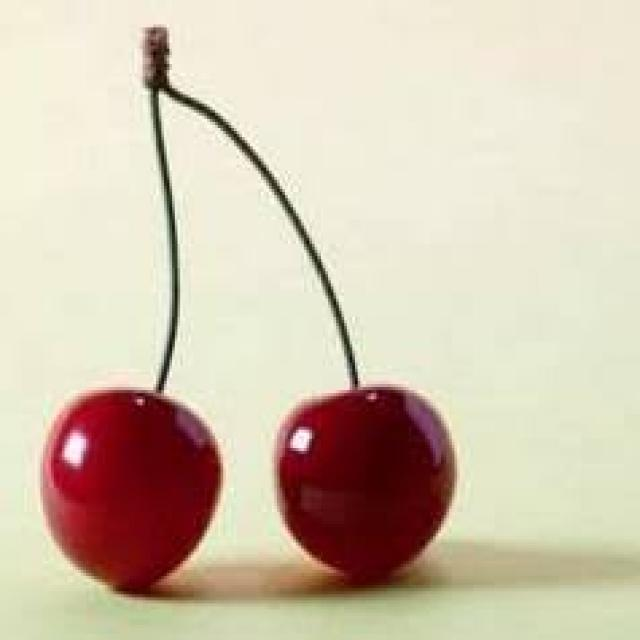organic waste: (35, 384, 220, 597), (274, 378, 454, 591)
